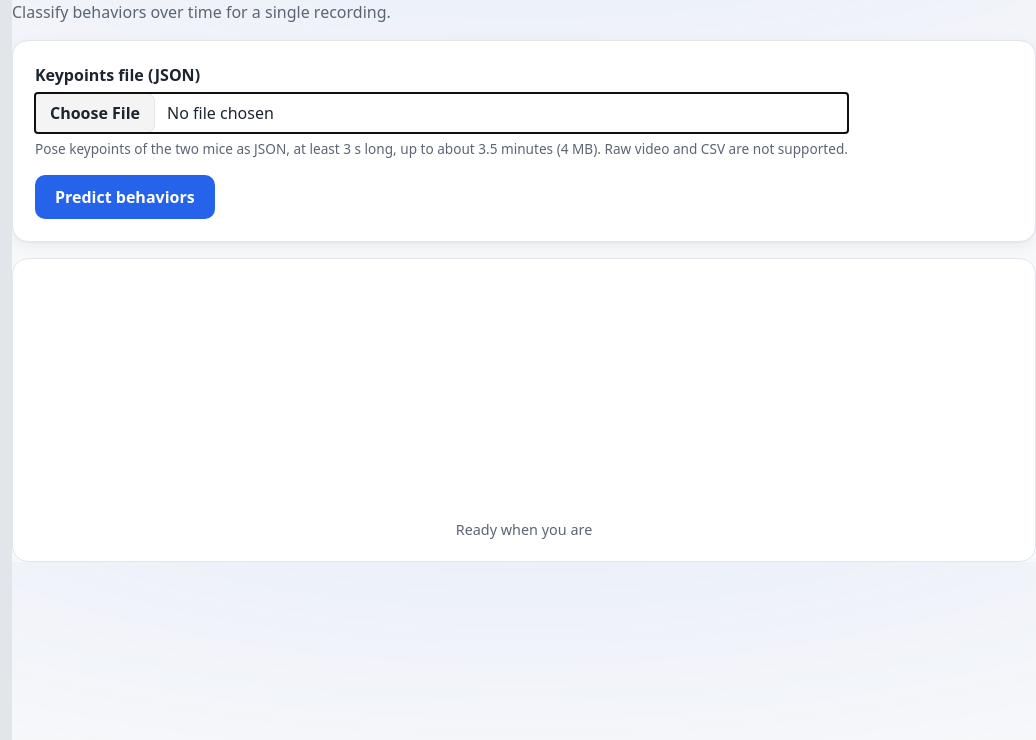
Test: TimelineView › switches between Summary and Detail without calling the backend again
Earlier steps of the test are not shown.
Later steps or results of the test are not shown.
What coordinates should you click on to do the following:
click the button "Predict behaviors"
I would click on:
 (125, 197)
Its box is [35,175,215,219].
(page scrolled)
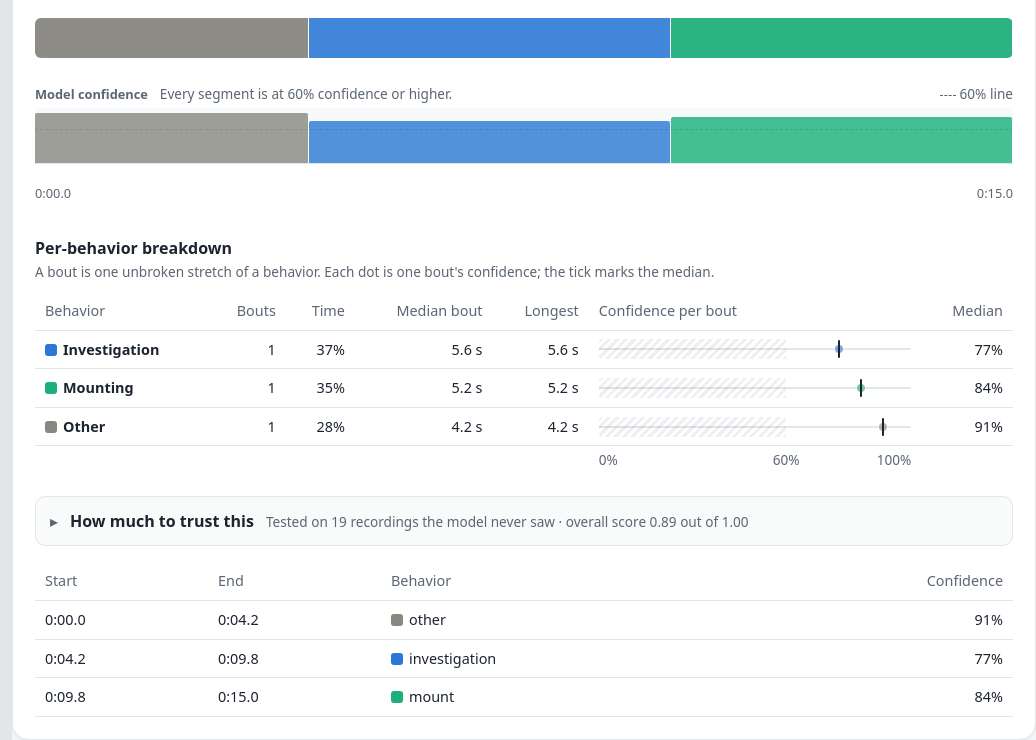
Now the table named "predicted segments" is shown, box [35,562,1013,717]
